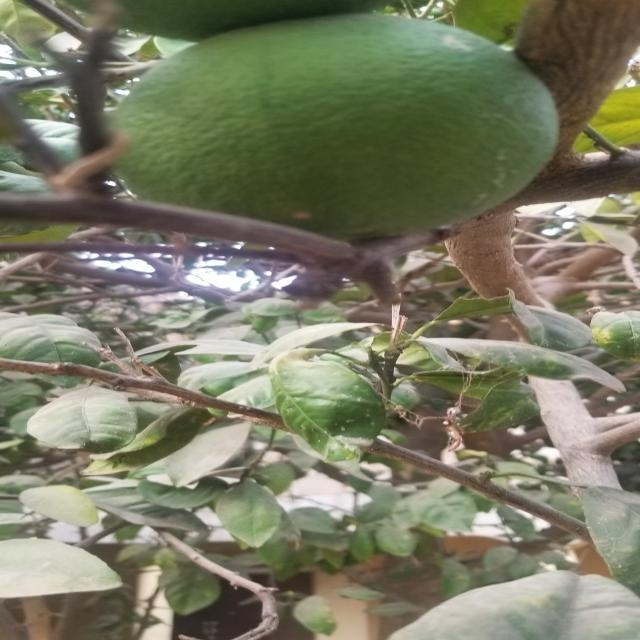agrume: (118, 24, 562, 243)
